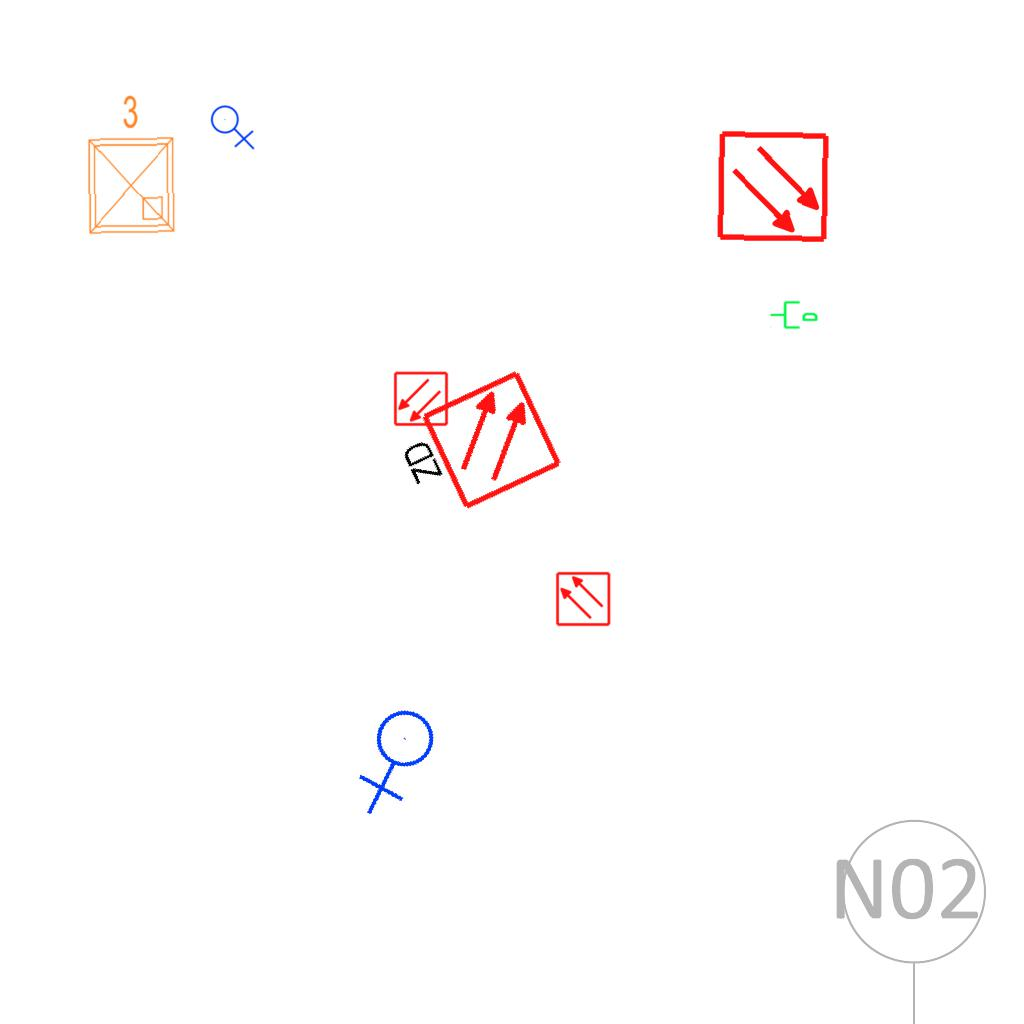Datenanschluss_einfach: (769, 297, 819, 331)
Einbaudownlights_LED_Konferenzraeume: (75, 89, 183, 241)
Elektroanschluss_allgemein_230V_Geraeteanschlussdose_230V: (336, 697, 463, 821), (210, 101, 257, 150)
RMO_Rauchmelder_optischer: (716, 129, 831, 244), (555, 571, 611, 627), (393, 371, 449, 427)
ZD_Melder_in_Zwischendecke_mit_Revisionsoeffnung_mind_40_x_40_cm: (383, 366, 567, 533)
